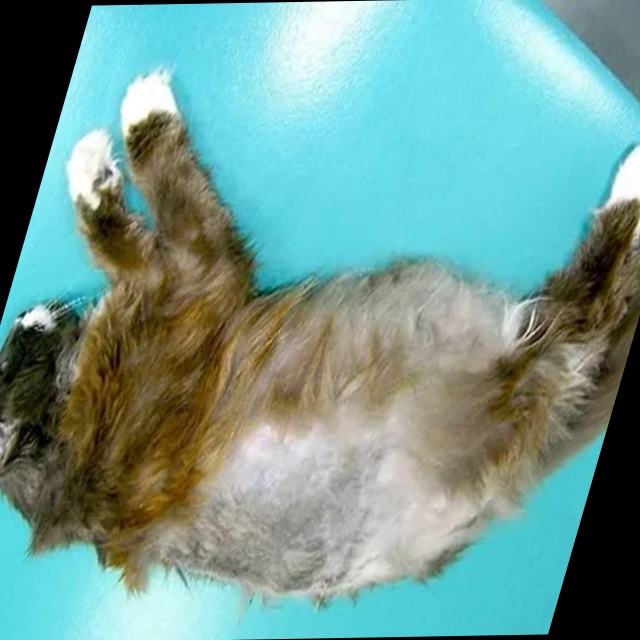hairloss: (168, 445, 493, 584), (285, 285, 511, 379)
